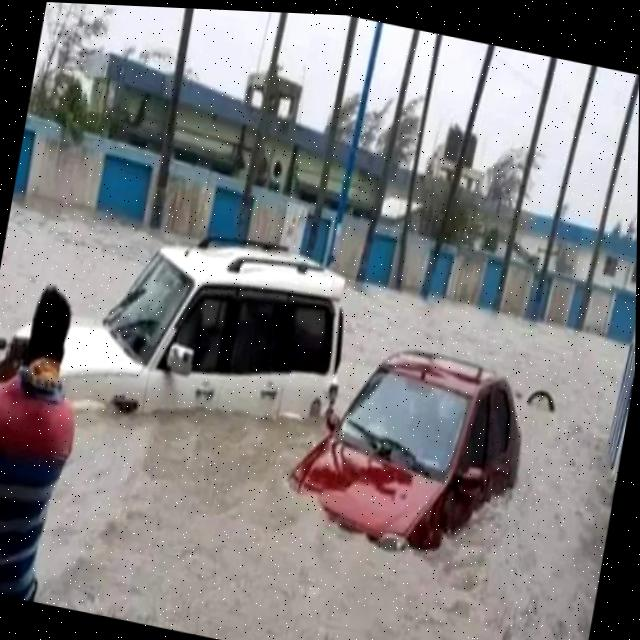civilian: (0, 249, 142, 614)
